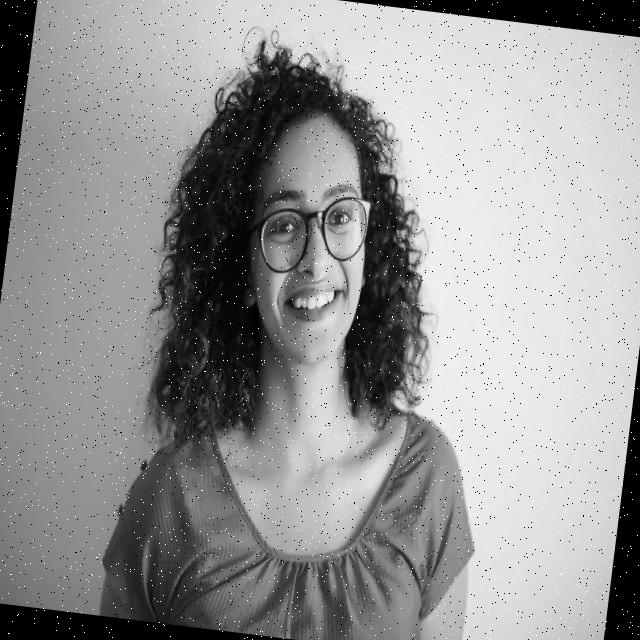Happiness: (231, 104, 385, 374)
